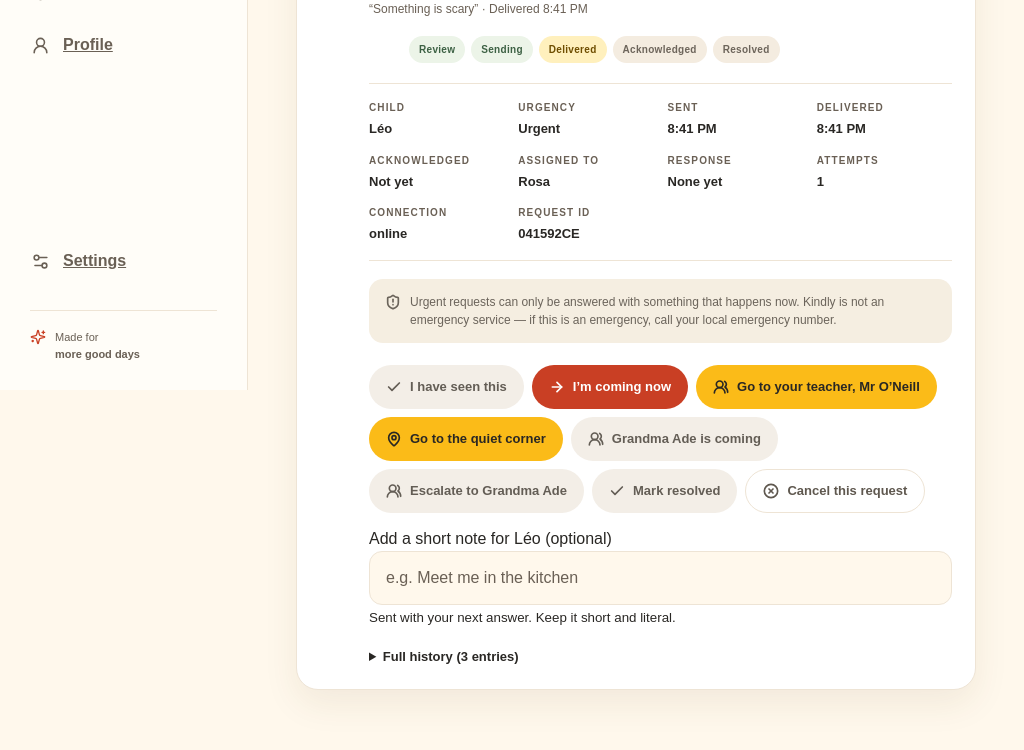
it: dialogs manage focus › moves focus in, traps Tab, and closes on Escape
The width and height of the screenshot is (1024, 750).
(page scrolled)
Click the button "Mark resolved". click: click(665, 490)
box: [592,468,737,512]
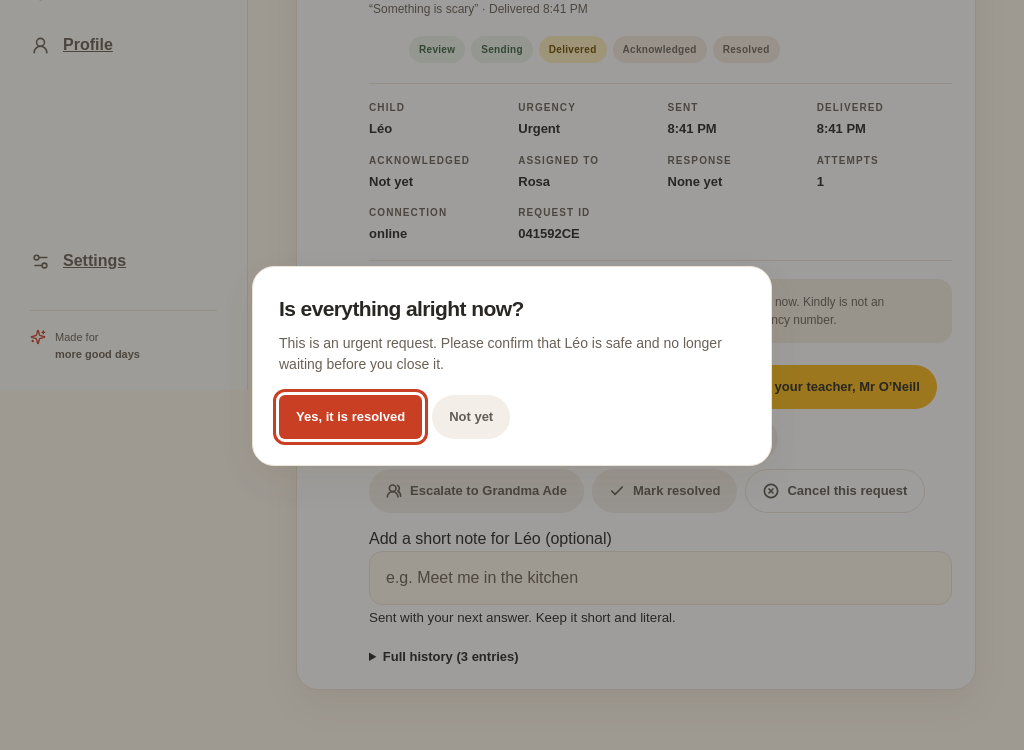
Press Escape
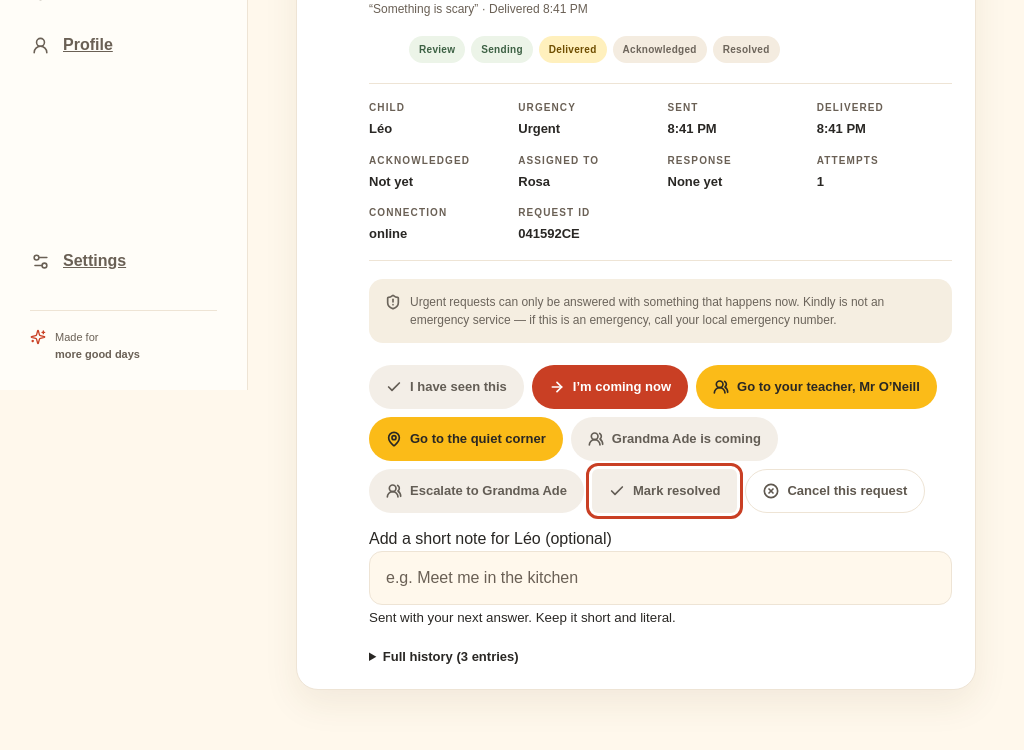
Result: the dialog is gone
